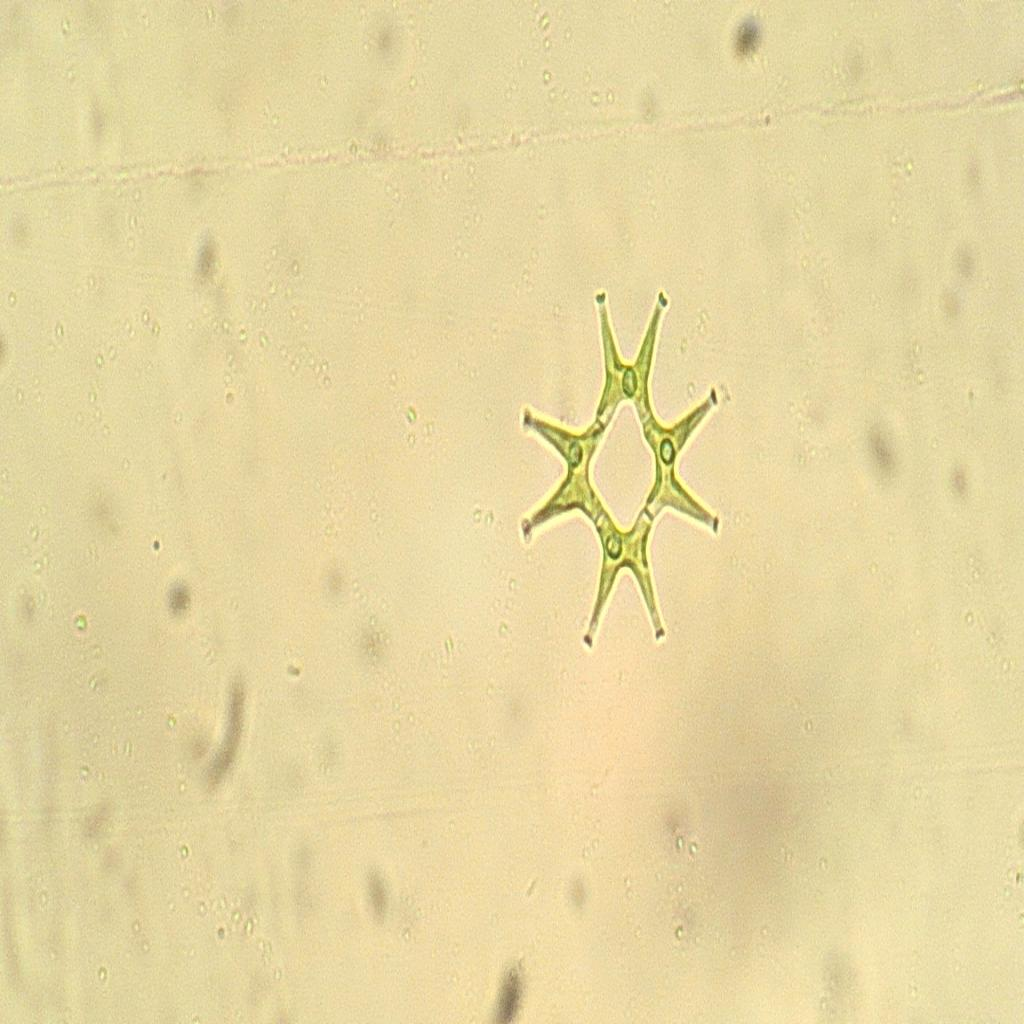Pediastrum_10: (507, 260, 730, 657)
